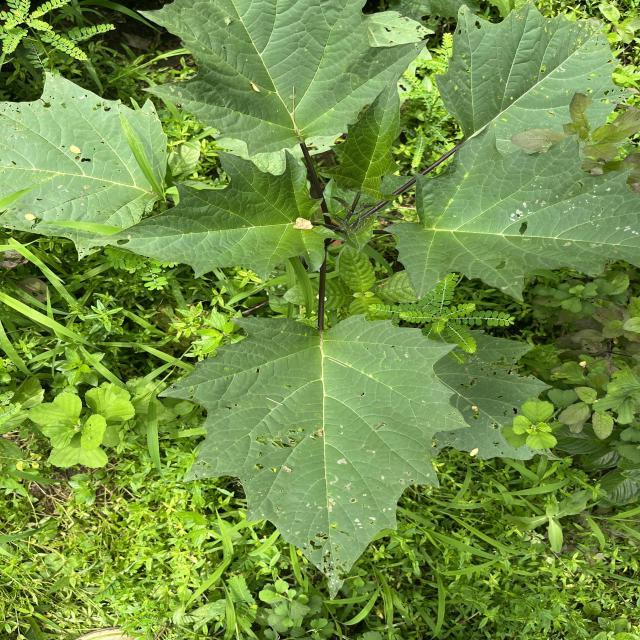Datura metal linn: (152, 310, 476, 603), (382, 116, 640, 304), (135, 0, 431, 159), (85, 146, 348, 284), (431, 0, 639, 163), (316, 65, 406, 204)
